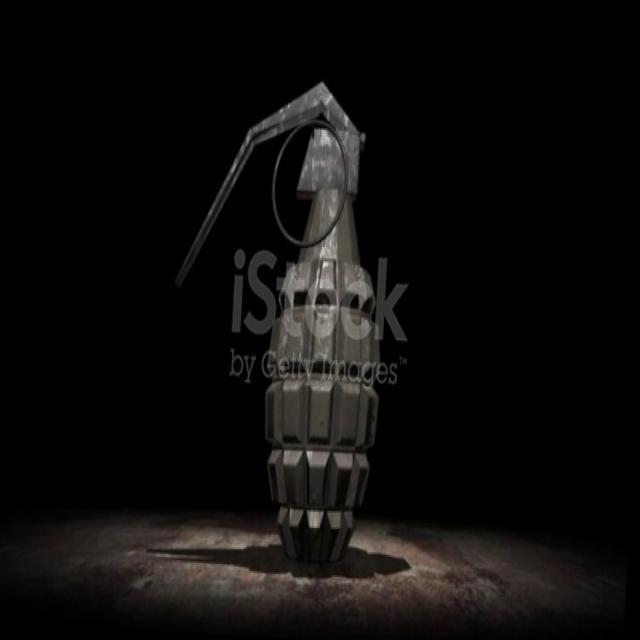grenade: (164, 83, 398, 555)
